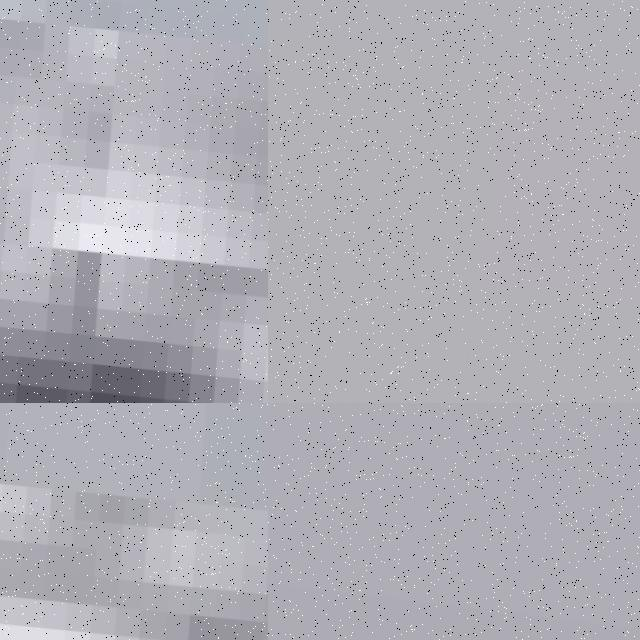drone: (0, 0, 268, 403), (0, 403, 268, 640)
